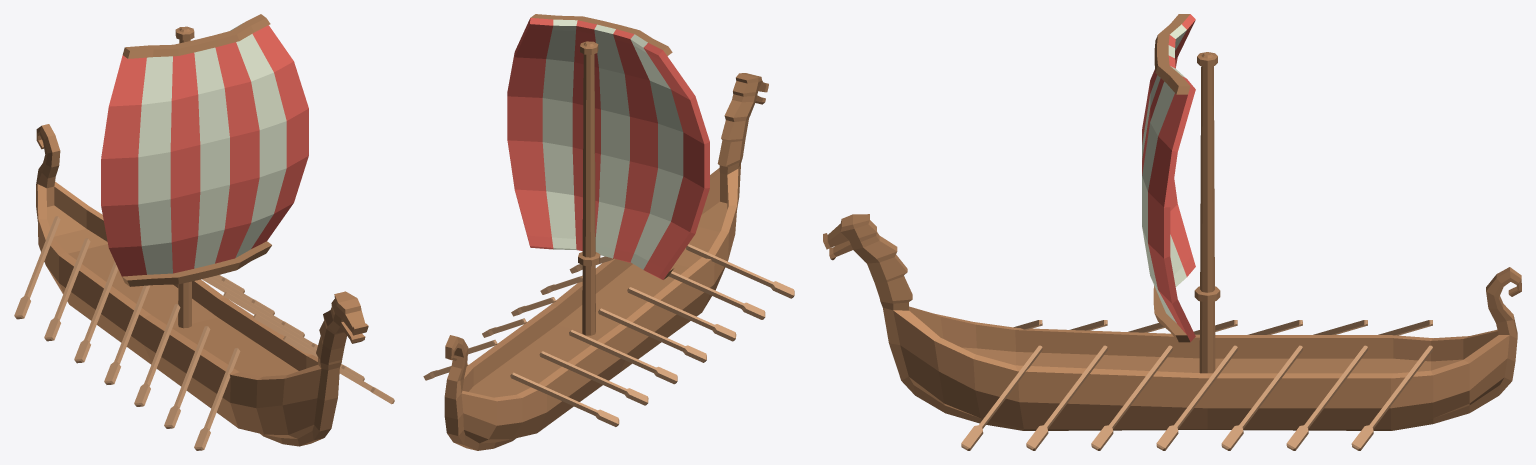
File: Viking Boat.glb
The picture shows the model from 3 angles, left to right: view 1: azimuth 30°, elevation 25°; view 2: azimuth 150°, elevation 25°; view 3: azimuth 270°, elevation 25°; orthographic projection. The views are drawn at different scales.
Visible parts, largest first — view 1: Sail, Viking Ship; view 2: Viking Ship, Sail; view 3: Viking Ship, Sail.
Part boxes in pixels (x1,y1,x2,y2): Sail: (101, 14, 308, 286); Viking Ship: (14, 26, 394, 450); Viking Ship: (423, 41, 794, 450); Sail: (507, 14, 709, 279); Viking Ship: (823, 52, 1521, 450); Sail: (1142, 14, 1195, 342).
Bounding box in the file's own units: 1.57 × 2.51 × 4.2.
